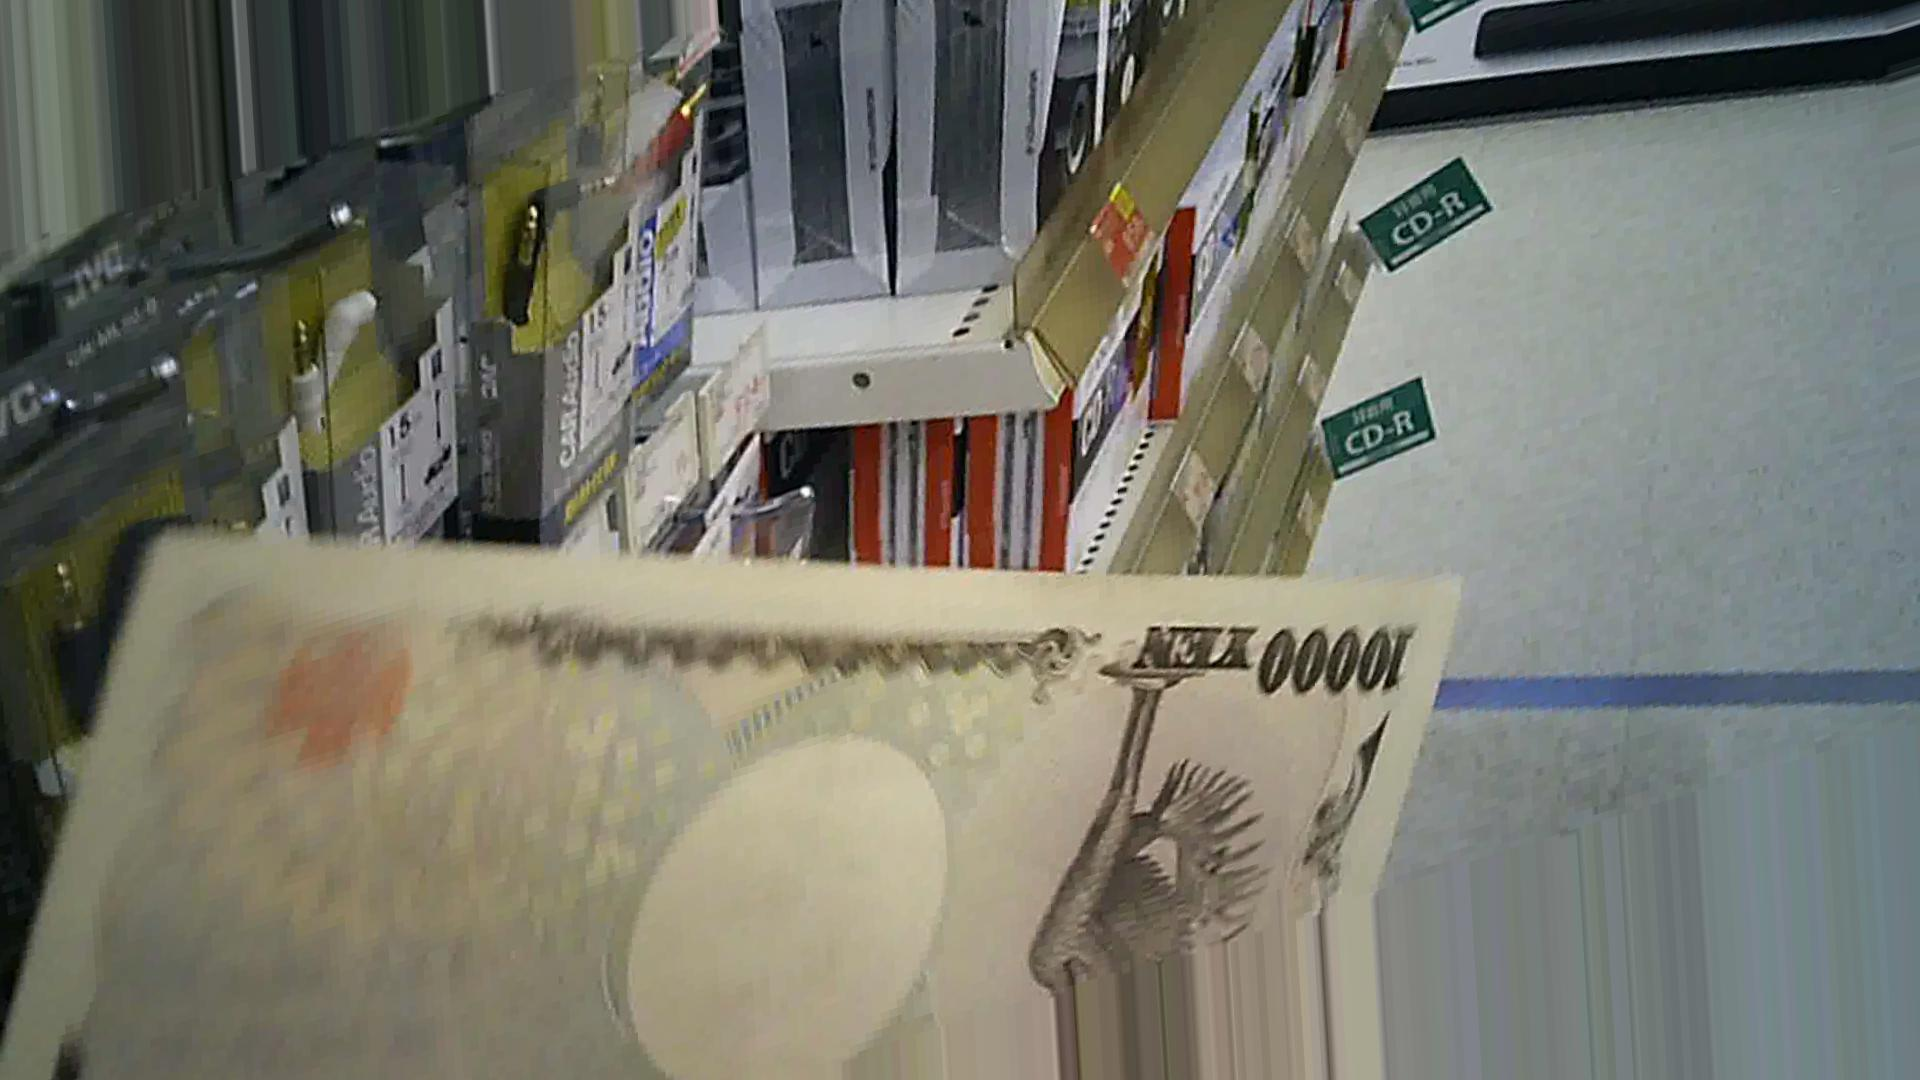10,000 Yen: (105, 425, 1489, 997)
